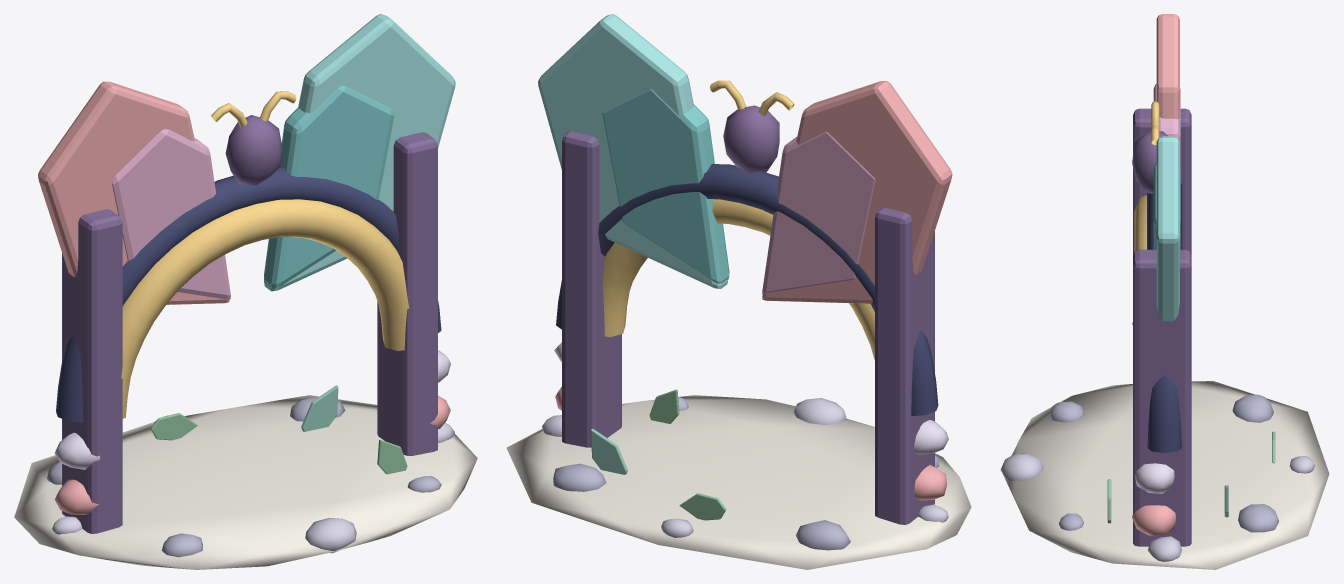
File: lagoon_butterfly_world_gate.glb
The picture shows the model from 3 angles, left to right: view 1: azimuth 30°, elevation 25°; view 2: azimuth 150°, elevation 25°; view 3: azimuth 270°, elevation 25°; orthographic projection. The views are drawn at different scales.
Visible parts, largest first — view 1: lagoon_butterfly_world_gate.001; view 2: lagoon_butterfly_world_gate.001; view 3: lagoon_butterfly_world_gate.001.
Boxes of the visible parts, x1,y1,x2,y2 form: lagoon_butterfly_world_gate.001: [14, 14, 477, 569]; lagoon_butterfly_world_gate.001: [506, 14, 971, 569]; lagoon_butterfly_world_gate.001: [1000, 14, 1329, 569].
Size of the model in its own units: 7.68 by 7.69 by 5.62.
